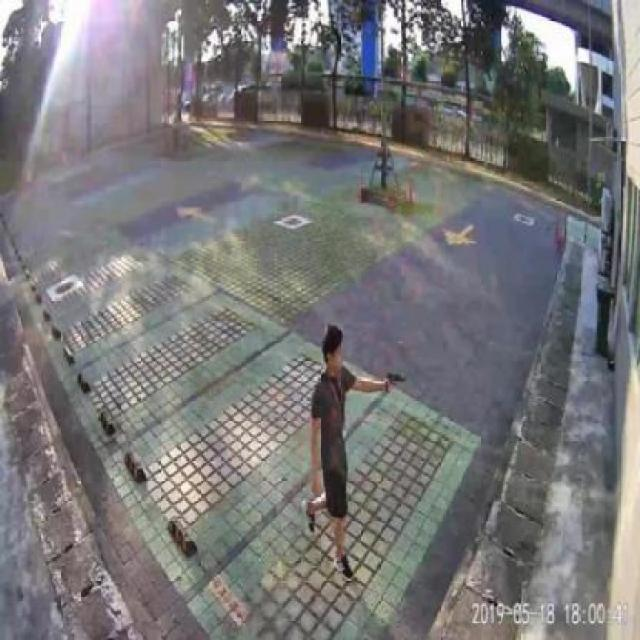gun: (382, 367, 404, 393)
